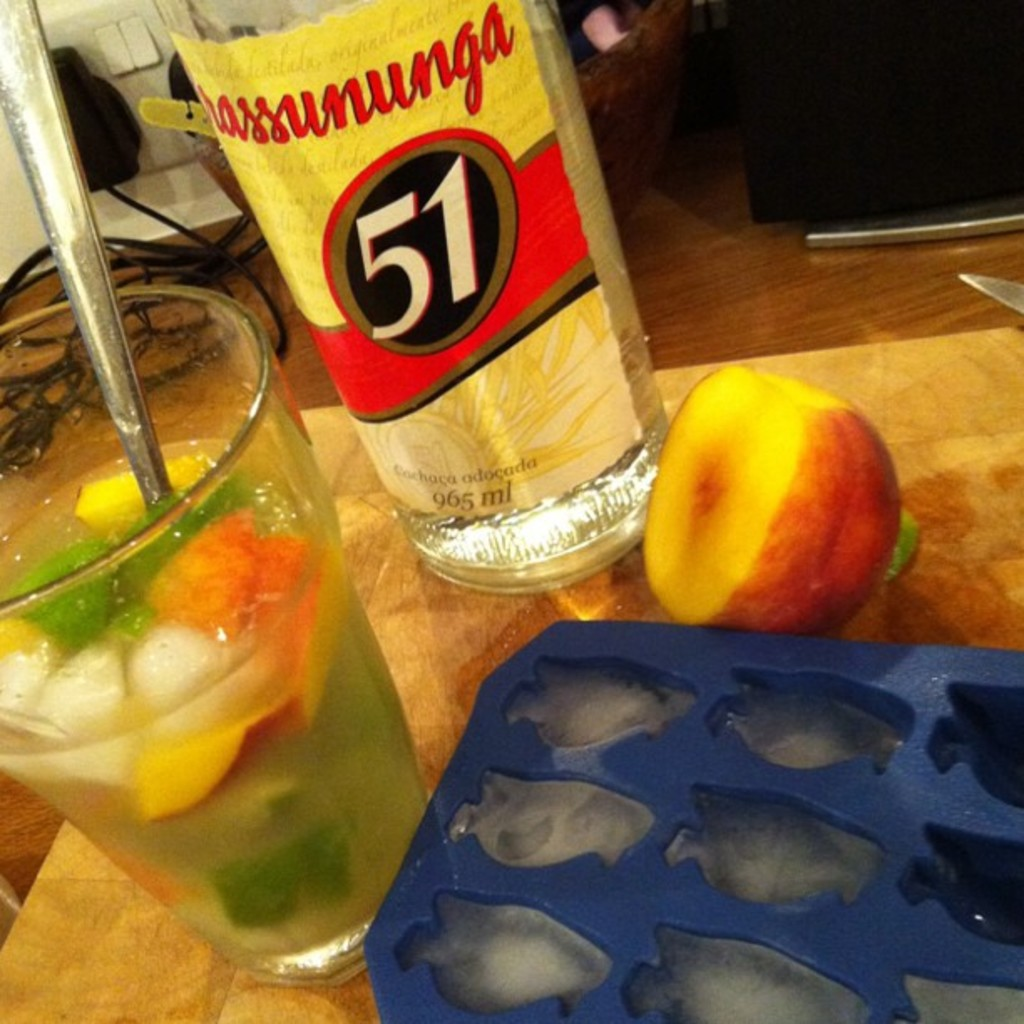Apple: (637, 361, 900, 637)
